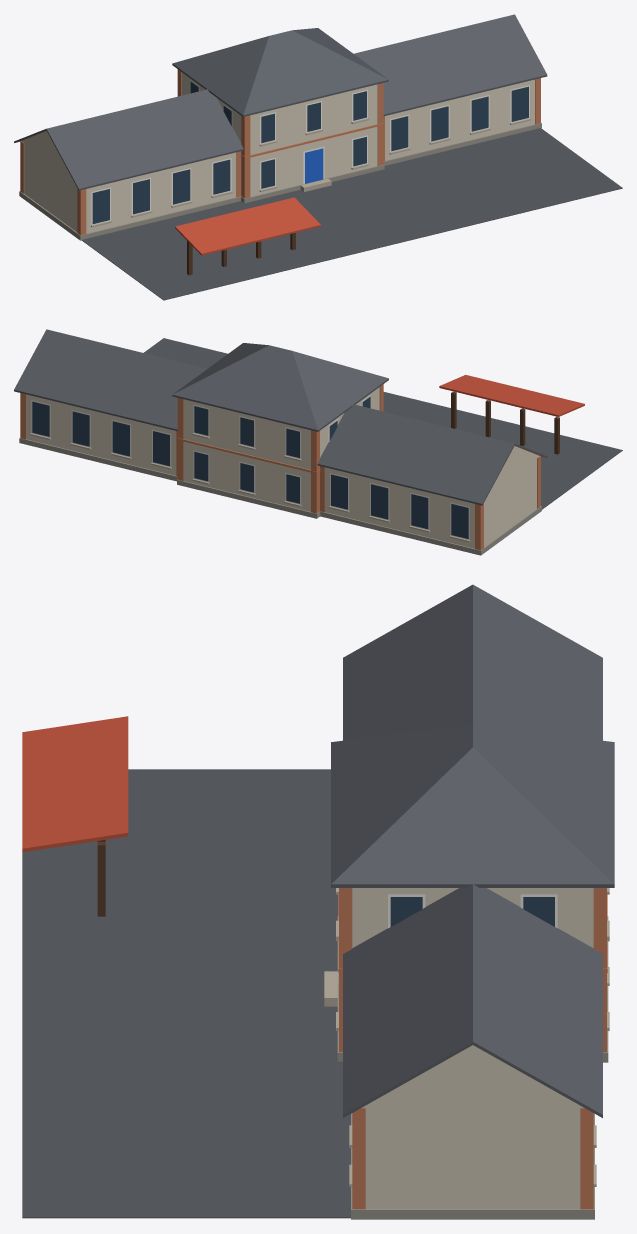
File: ecole_ferry.glb
3 renders of one model, top to bottom at view 1: azimuth 30°, elevation 25°; view 2: azimuth 150°, elevation 25°; view 3: azimuth 270°, elevation 25°, orthographic. The views are drawn at different scales.
Parts seen in each view (by area): view 1: ecole_ferry; view 2: ecole_ferry; view 3: ecole_ferry.
Boxes of the visible parts, x1=… form: ecole_ferry: x1=14, y1=14, x2=622, y2=300; ecole_ferry: x1=14, y1=329, x2=622, y2=555; ecole_ferry: x1=22, y1=584, x2=614, y2=1219.
Size of the model in its own units: 40.8 by 10.74 by 22.35.
Materials: 1 (1 with a texture image).
